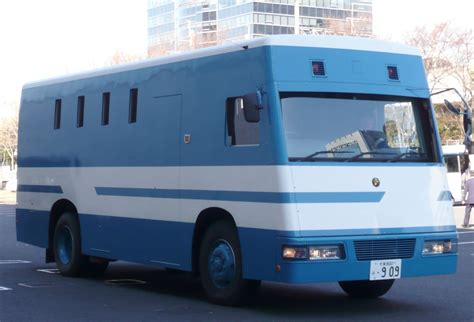bus: (17, 42, 460, 304)
